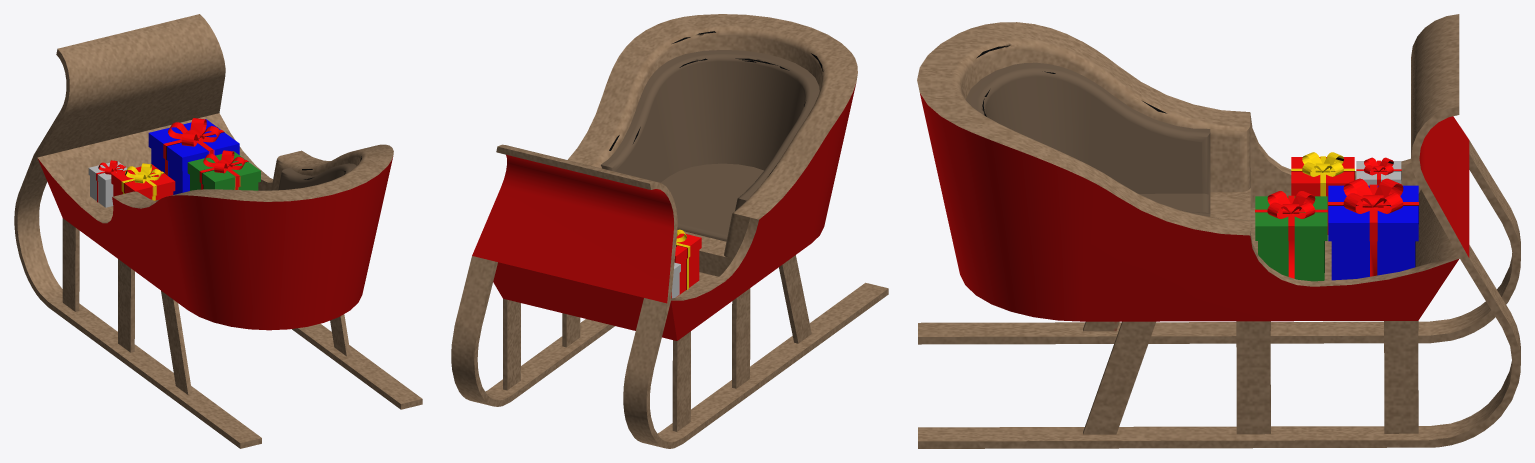
The model's file is TrineoRegalo.fbx.
The picture shows the model from 3 angles, left to right: view 1: azimuth 30°, elevation 25°; view 2: azimuth 150°, elevation 25°; view 3: azimuth 270°, elevation 25°; orthographic projection. The views are drawn at different scales.
Visible parts, largest first — view 1: Trineo.001; view 2: Trineo.001; view 3: Trineo.001.
Part boxes in pixels (x1,y1,x2,y2): Trineo.001: (14,14,422,448); Trineo.001: (451,14,888,448); Trineo.001: (917,14,1520,448).
Size of the model in its own units: 0.7722 by 0.871 by 1.45.
